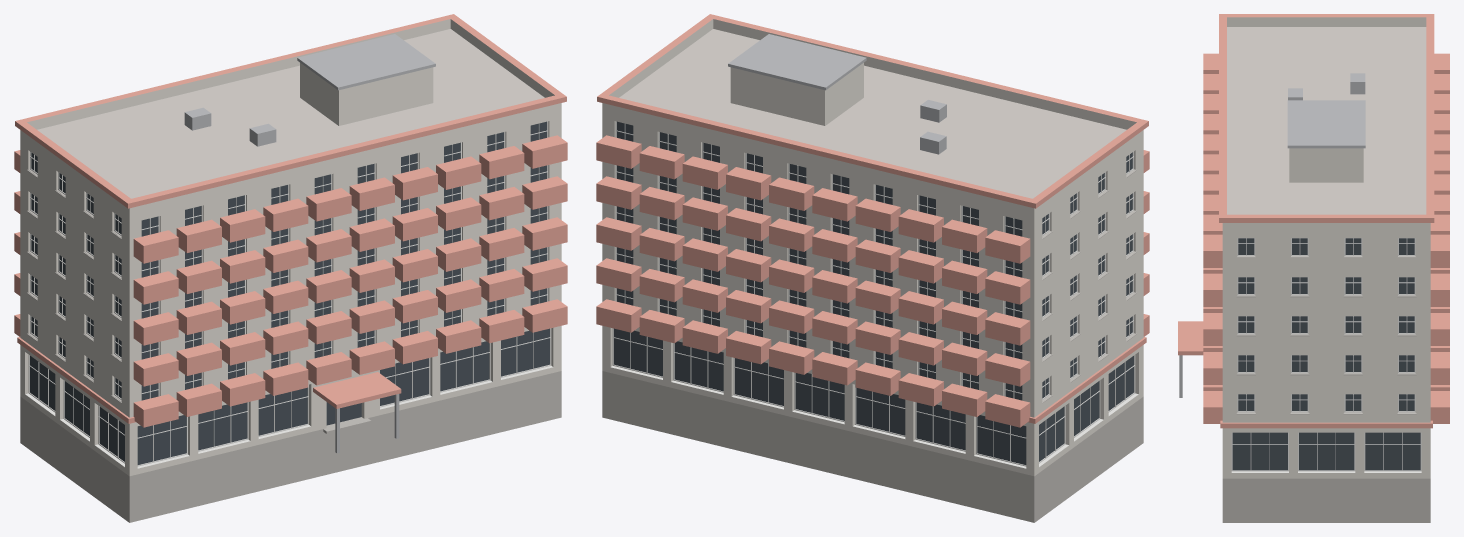
The model's file is hotel_6_l.glb.
3 views of the same model, side by side, from view 1: azimuth 30°, elevation 25°; view 2: azimuth 150°, elevation 25°; view 3: azimuth 270°, elevation 25° (orthographic). The views are drawn at different scales.
Visible parts, largest first — view 1: hotel_6_l; view 2: hotel_6_l; view 3: hotel_6_l.
Part boxes in pixels (bbox=[...]): hotel_6_l: bbox=[14, 14, 567, 522]; hotel_6_l: bbox=[596, 14, 1149, 522]; hotel_6_l: bbox=[1178, 14, 1449, 522].
Size of the model in its own units: 32.5 by 24.85 by 18.3.
